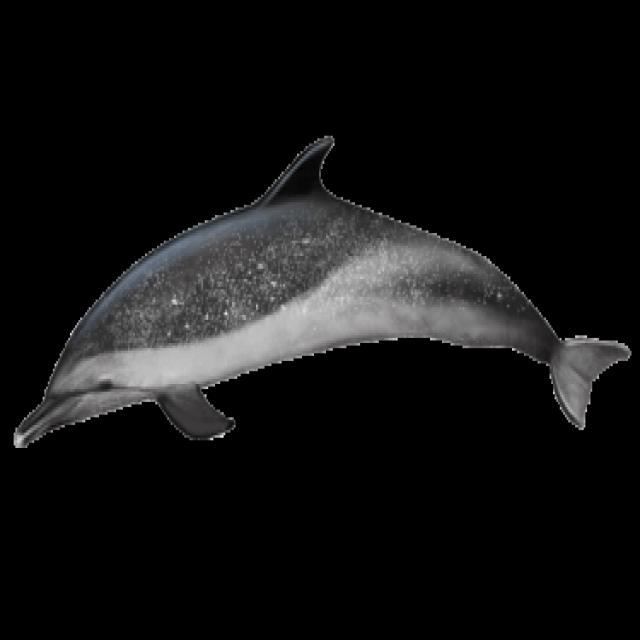penguin: (14, 136, 630, 445)
